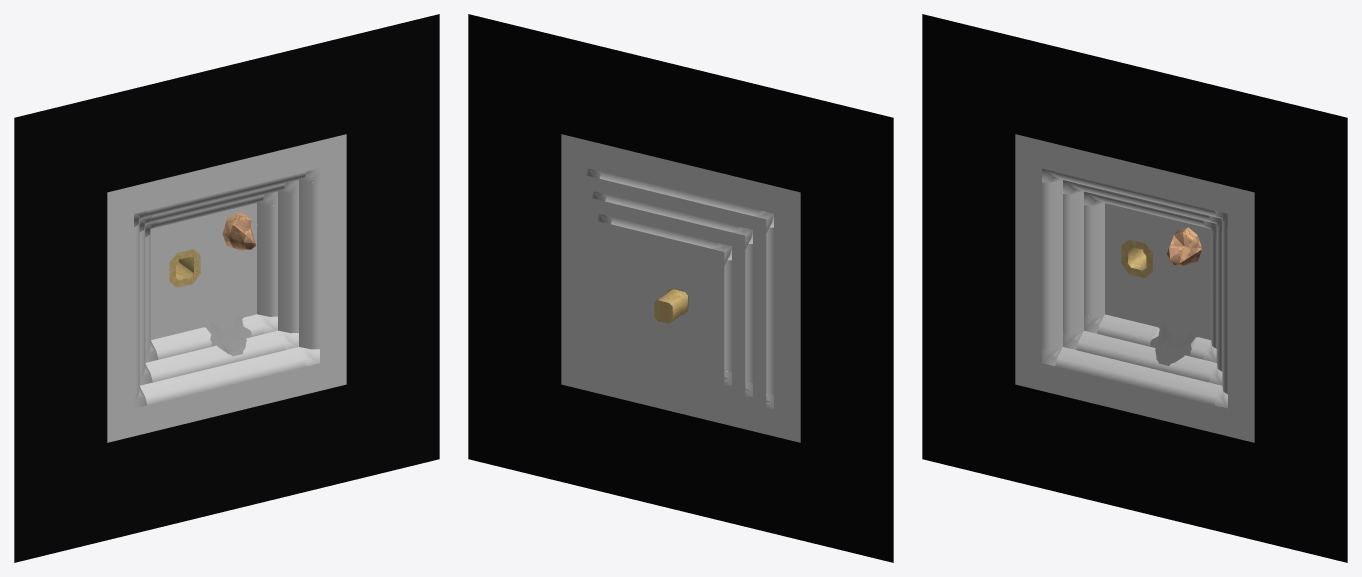
Rendered from Navel-Cave-West-3_00_00.obj.
3 renders of one model, left to right at view 1: azimuth 30°, elevation 25°; view 2: azimuth 150°, elevation 25°; view 3: azimuth 330°, elevation 25°, orthographic.
Visible parts, largest first — view 1: map; view 2: map; view 3: map.
Part boxes in pixels (x1=…): map: x1=14, y1=14, x2=439, y2=562; map: x1=468, y1=14, x2=893, y2=562; map: x1=922, y1=14, x2=1347, y2=562.
Size of the model in its own units: 32 by 32 by 4.88.
